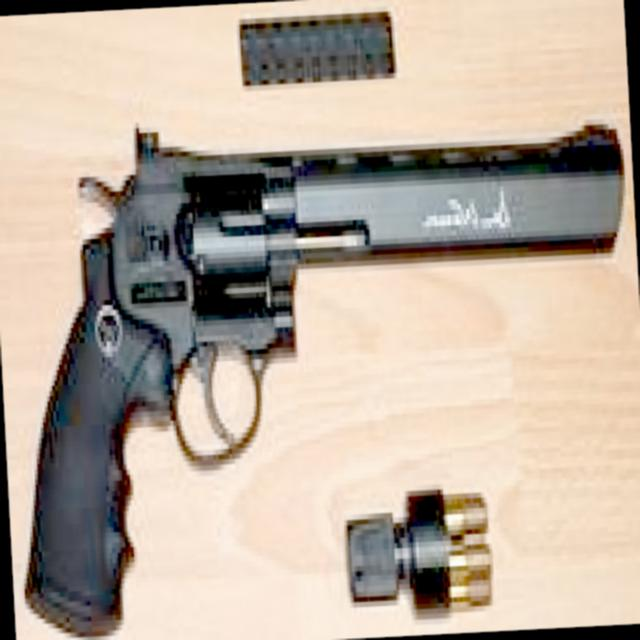revolver: (0, 83, 640, 640)
